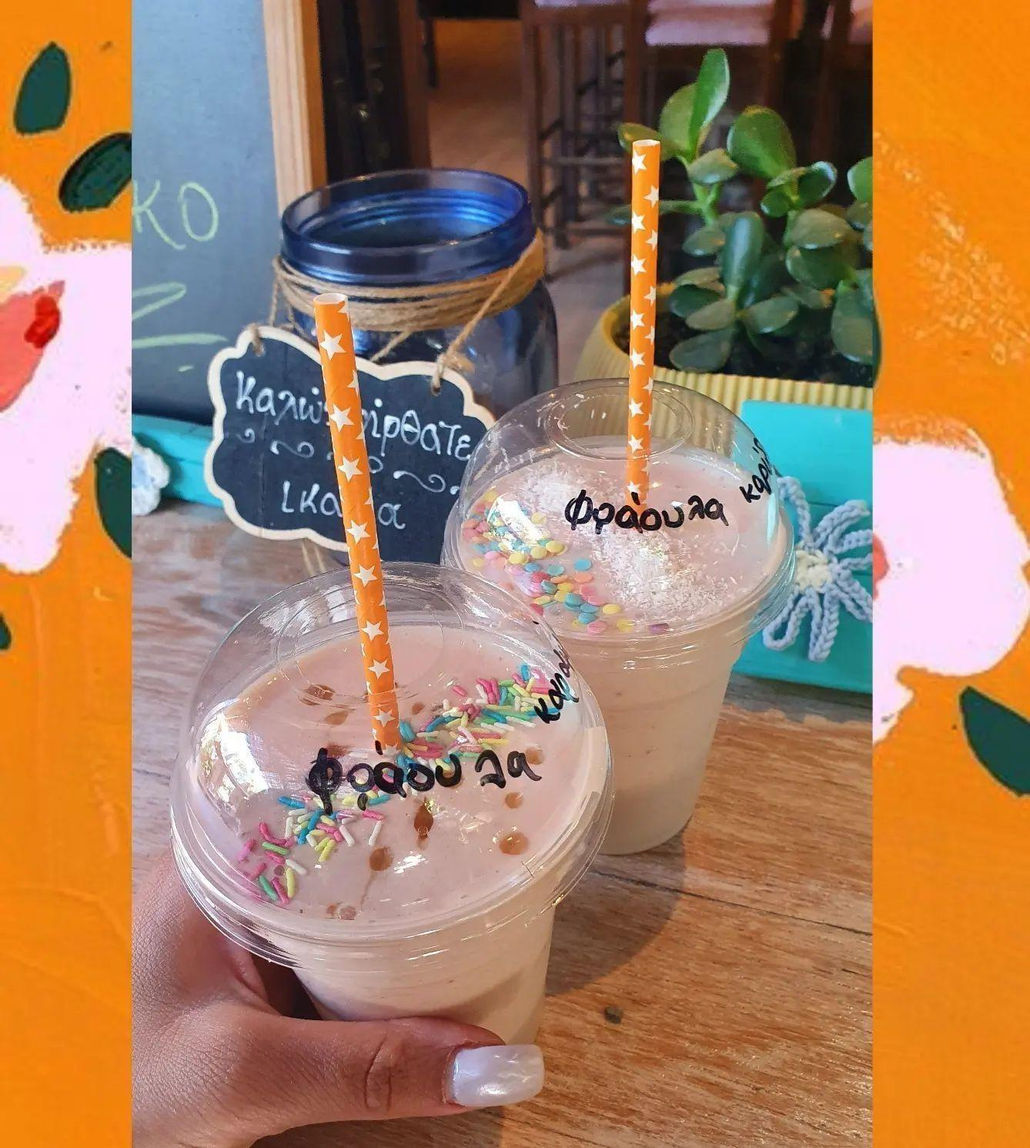cup-disposable: (160, 544, 628, 1140), (430, 368, 804, 884)
